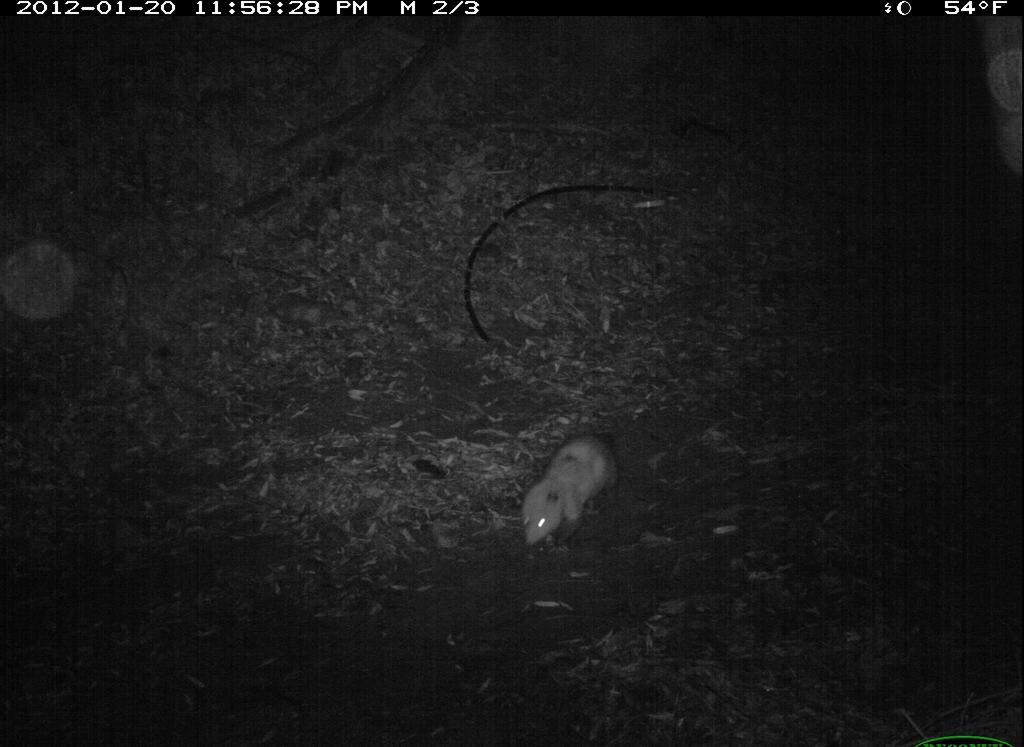opossum: (519, 408, 646, 550)
